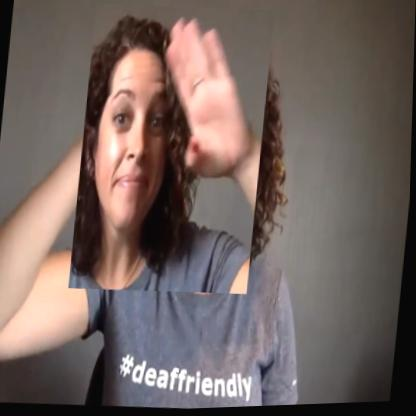Hello: (70, 0, 275, 301)
